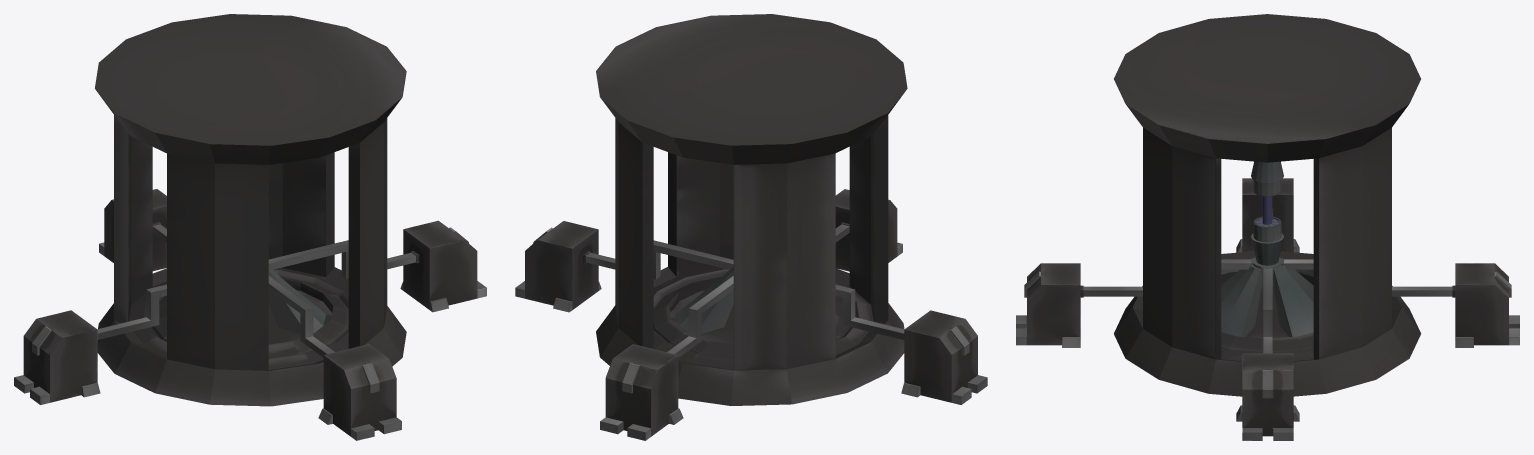
File: generator.fbx
3 views of the same model, side by side, from view 1: azimuth 30°, elevation 25°; view 2: azimuth 150°, elevation 25°; view 3: azimuth 270°, elevation 25° (orthographic). The views are drawn at different scales.
Parts seen in each view (by area): view 1: Cube.317; view 2: Cube.317; view 3: Cube.317.
Part boxes in pixels (x1=…): Cube.317: x1=14, y1=14, x2=486, y2=440; Cube.317: x1=515, y1=14, x2=987, y2=440; Cube.317: x1=1016, y1=14, x2=1519, y2=440.
Bounding box in the file's own units: 26.73 × 14.96 × 26.73.
